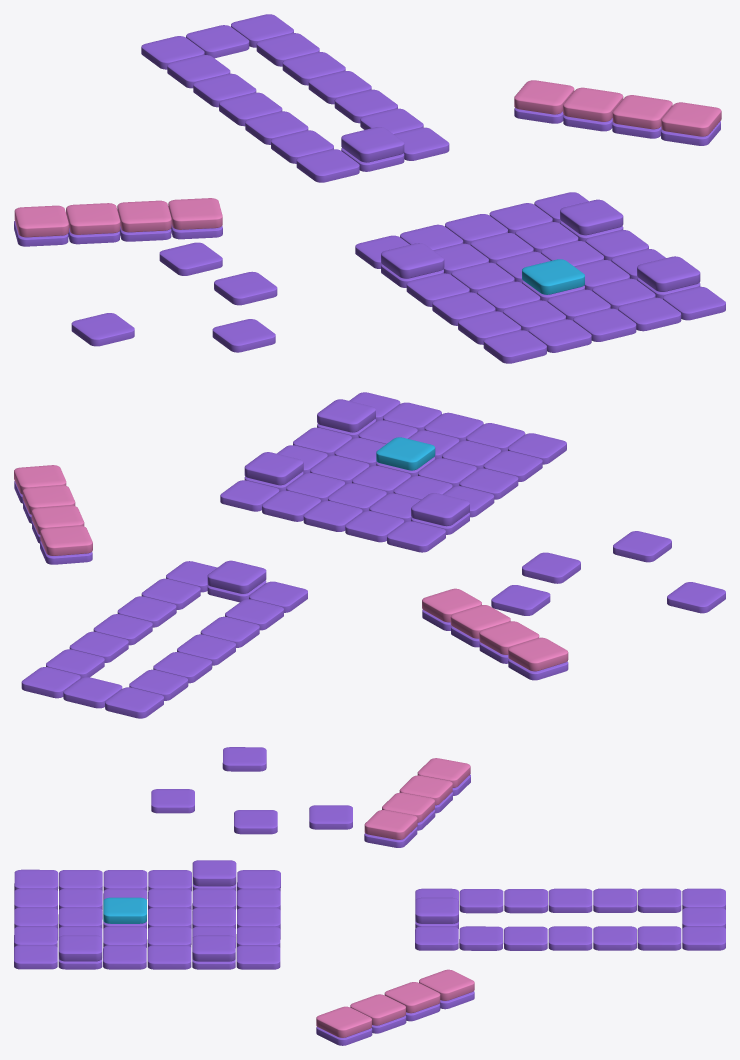
Rendered from Level9.glb.
The picture shows the model from 3 angles, top to bottom: view 1: azimuth 30°, elevation 25°; view 2: azimuth 150°, elevation 25°; view 3: azimuth 270°, elevation 25°; orthographic projection. The views are drawn at different scales.
Parts seen in each view (by area): view 1: block.001, block.005, block.002, block.006, block, wall.015, wall.011, wall.010, wall.007, wall.009, wall.012, wall.013 (+48 smaller); view 2: wall.011, block.002, block.001, block, block.005, block.006, wall.008, platform.038, platform.048, platform.041, platform.005, platform.037 (+47 smaller); view 3: wall.015, wall.007, block.005, block.006, block.001, block, block.002, wall.012, wall.008, platform.030, wall.013, platform.033 (+43 smaller).
Part boxes in pixels (x1,y1,x2,y2): block.001: (560,199,623,235); block.005: (637,256,700,291); block.002: (341,127,404,162); block.006: (381,243,444,278); block: (522,259,584,294); wall.015: (661,102,721,136); wall.011: (14,205,68,237); wall.010: (66,203,120,234); wall.007: (168,198,222,229); wall.009: (117,200,171,232); wall.012: (563,87,623,121); wall.013: (612,95,672,129); wall.011: (508,637,568,671); block.002: (207,560,266,593); block.001: (244,452,303,485); block: (376,437,435,470); block.005: (317,399,375,432); block.006: (411,493,469,526); wall.008: (40,525,92,555); platform.038: (522,552,580,583); platform.048: (105,687,163,718); platform.041: (491,585,550,615); platform.005: (387,521,445,552); platform.037: (613,531,671,562); wall.015: (316,1006,371,1037); wall.007: (364,810,417,839); block.005: (58,935,102,961); block.006: (192,860,236,886); block.001: (192,935,235,961); block: (103,897,146,923); block.002: (415,897,458,923); wall.012: (384,982,440,1013); wall.008: (419,969,474,1000); platform.030: (637,888,681,912); wall.013: (350,994,405,1025); platform.033: (548,888,592,912).
Size of what is drawn, in the model's own units: 38.45 by 1.04 by 39.49.
